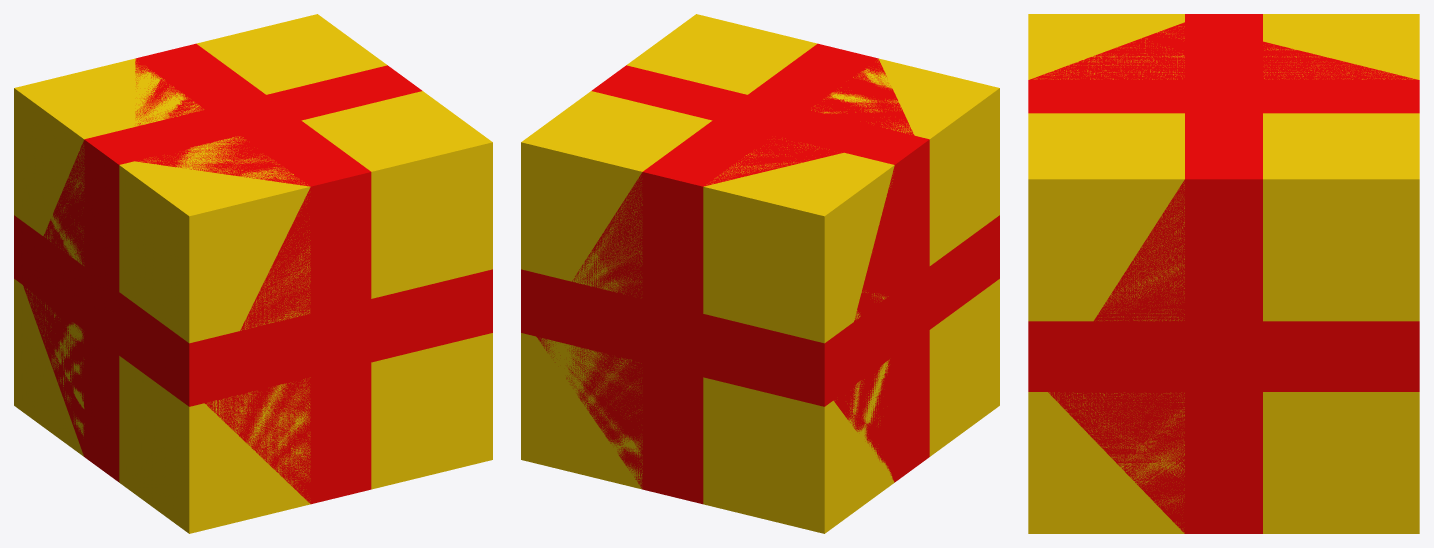
3 views of the same model, side by side, from view 1: azimuth 30°, elevation 25°; view 2: azimuth 150°, elevation 25°; view 3: azimuth 270°, elevation 25° (orthographic). The views are drawn at different scales.
Parts seen in each view (by area): view 1: Объект_Куб; view 2: Объект_Куб; view 3: Объект_Куб.
Part boxes in pixels (x1,y1,x2,y2): Объект_Куб: [14, 14, 492, 533]; Объект_Куб: [521, 14, 999, 533]; Объект_Куб: [1028, 14, 1419, 533].
Bounding box in the file's own units: 1 × 1 × 1.
